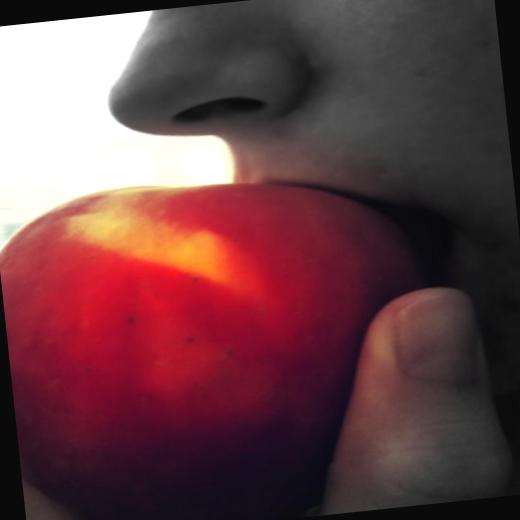Apple: (0, 118, 444, 519)
